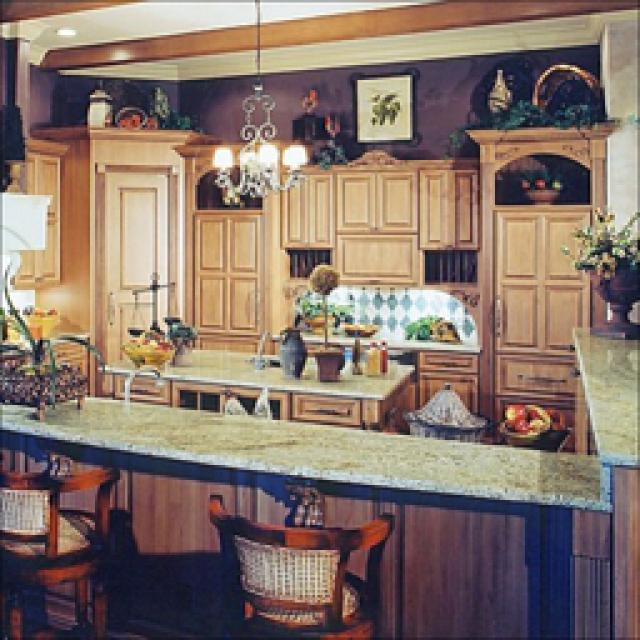basket crop: (398, 380, 485, 442)
bottles occluded: (360, 335, 388, 375)
bouquet: (555, 200, 638, 338)
bowl -X: (118, 335, 172, 368), (338, 322, 375, 335)
cabinets: (460, 125, 612, 415), (8, 125, 190, 362), (278, 152, 480, 285), (170, 142, 282, 348), (98, 370, 408, 430), (392, 348, 478, 412)
ceiling lamps: (208, 0, 305, 200)
chair -occluded-: (205, 490, 392, 635), (0, 465, 128, 635)
counter bottom: (0, 325, 635, 512), (95, 342, 410, 398)
fruit plate: (490, 400, 568, 448)
jar -X: (82, 82, 110, 122)
lamp crop: (482, 65, 512, 110)
painting crop: (348, 58, 420, 142)
plant -x: (0, 258, 105, 420), (448, 55, 610, 145), (308, 260, 345, 378), (0, 98, 30, 190), (502, 162, 568, 202), (145, 85, 202, 128), (292, 292, 352, 330), (400, 310, 458, 342)
pot hanger: (278, 322, 305, 372)
scale: (122, 265, 182, 332)
